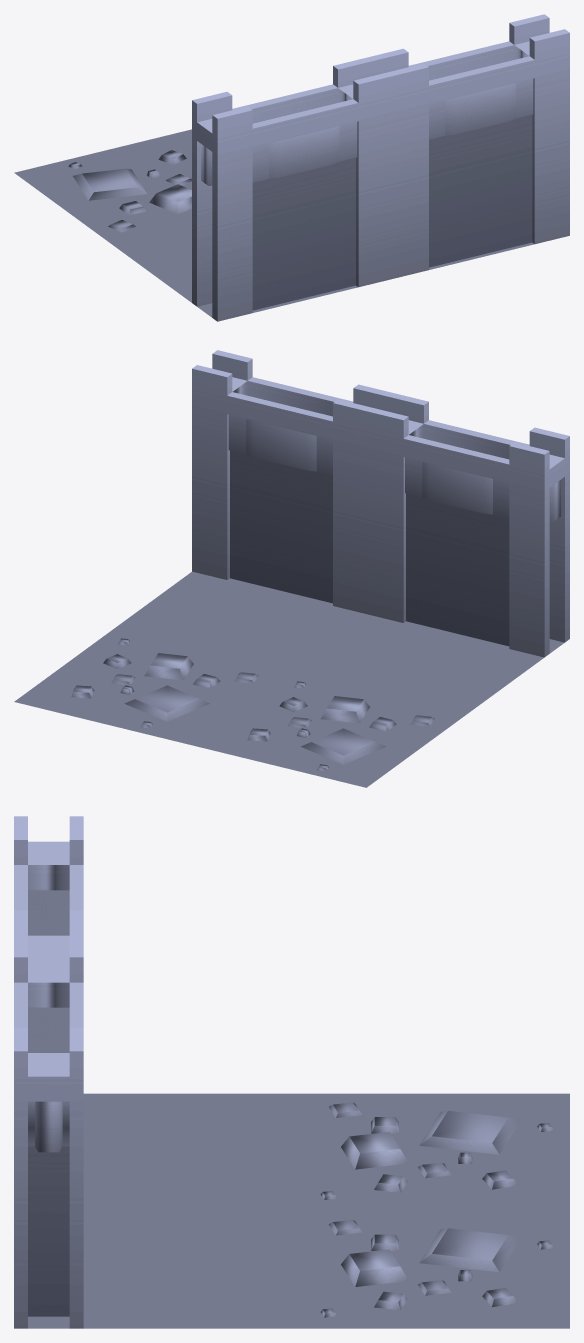
File: tile_4.glb
3 renders of one model, top to bottom at view 1: azimuth 30°, elevation 25°; view 2: azimuth 150°, elevation 25°; view 3: azimuth 270°, elevation 25°, orthographic. The views are drawn at different scales.
Visible parts, largest first — view 1: wall4; view 2: wall4; view 3: wall4.
Part boxes in pixels (box(x1,y1,x2,y2)): wall4: box(14, 14, 569, 321); wall4: box(14, 350, 569, 787); wall4: box(14, 816, 569, 1328).
Bounding box in the file's own units: 2 × 1.1 × 2.
Materials: 6 (6 with a texture image).
